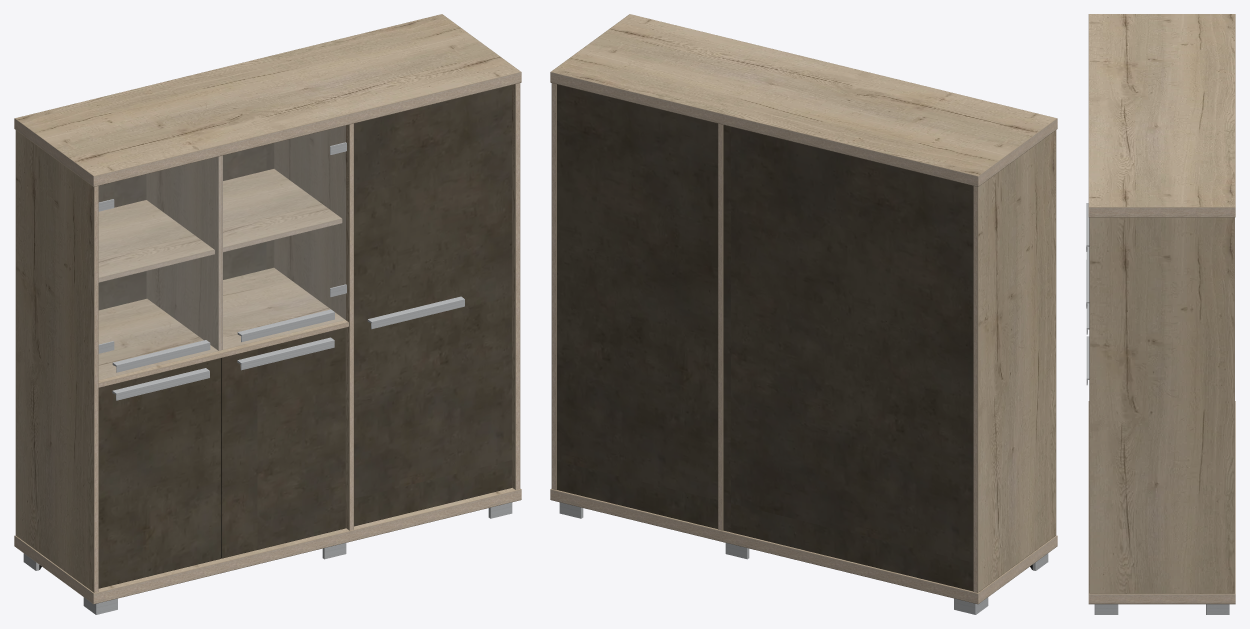
3 renders of one model, left to right at view 1: azimuth 30°, elevation 25°; view 2: azimuth 150°, elevation 25°; view 3: azimuth 270°, elevation 25°, orthographic. The views are drawn at different scales.
Parts seen in each view (by area): view 1: Line1789532158, Line1789532140, Line1789532144, Line1789532159, Line1789532160, Box1578995145, Box1578995142, Line1789532145, Line1789532164, Line1789532163, Line1789532141, Line1789532154 (+8 smaller); view 2: Line1789532162, Line1789532143, Line1789532140, Line1789532144, Line1789532141, Line1789532145, Line1789532142; view 3: Line1789532142, Line1789532140, Line1789532141, Object5790, Object5791.
Part boxes in pixels (box(x1,y1,x2,y2)): Line1789532158: box(354, 85, 511, 526); Line1789532140: box(14, 14, 521, 186); Line1789532144: box(15, 130, 98, 592); Line1789532159: box(221, 328, 345, 558); Line1789532160: box(98, 358, 220, 588); Box1578995145: box(222, 126, 345, 349); Box1578995142: box(99, 156, 220, 379); Line1789532145: box(274, 123, 353, 530); Line1789532164: box(98, 267, 348, 387); Line1789532163: box(146, 155, 222, 350); Line1789532141: box(14, 488, 521, 604); Line1789532154: box(223, 169, 342, 252); Line1789532162: box(723, 125, 973, 591); Line1789532143: box(557, 84, 717, 528); Line1789532140: box(550, 14, 1057, 186); Line1789532144: box(973, 130, 1056, 592); Line1789532141: box(550, 489, 1057, 604); Line1789532145: box(718, 123, 723, 530); Line1789532142: box(551, 83, 556, 489); Line1789532142: box(1089, 217, 1234, 593); Line1789532140: box(1088, 14, 1235, 217); Line1789532141: box(1088, 401, 1235, 604); Object5790: box(1094, 604, 1118, 614); Object5791: box(1206, 604, 1229, 614).
Size of the model in its own units: 1.56 by 1.54 by 0.5078.
Materials: 7 (5 with a texture image).
